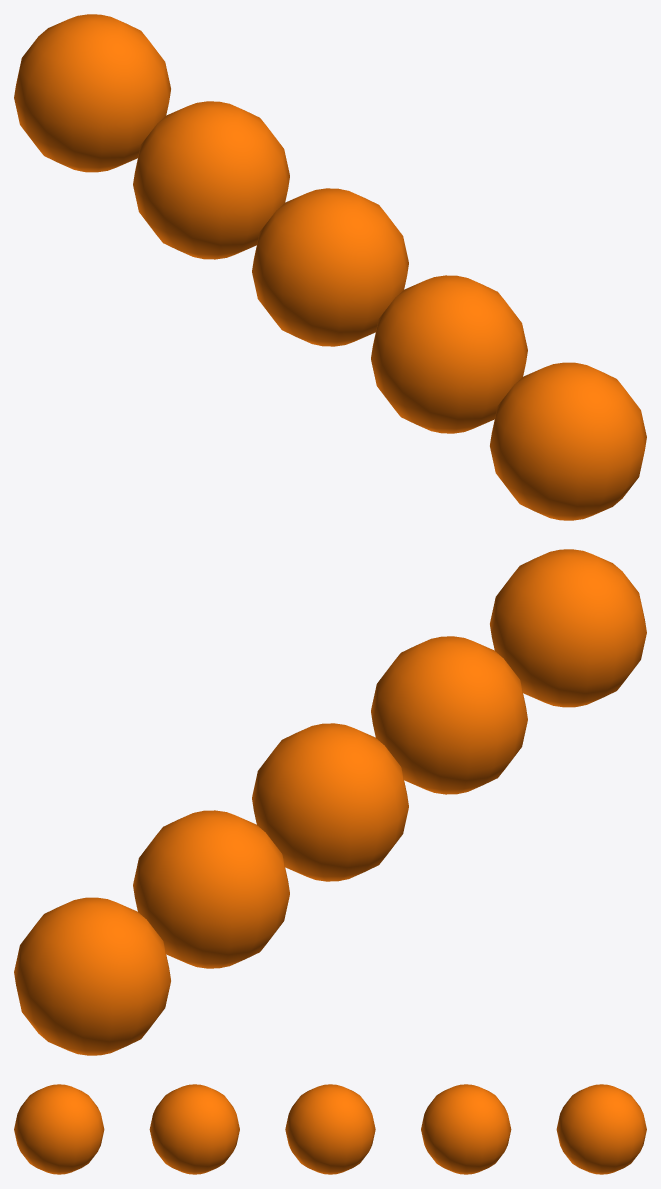
Rendered from spheres2.glb.
3 views of the same model, one above another, from view 1: azimuth 30°, elevation 25°; view 2: azimuth 150°, elevation 25°; view 3: azimuth 270°, elevation 25° (orthographic). The views are drawn at different scales.
Parts seen in each view (by area): view 1: Sphere.003, Sphere, Sphere.001, Sphere.004, Sphere.002; view 2: Sphere.004, Sphere, Sphere.002, Sphere.003, Sphere.001; view 3: Sphere, Sphere.003, Sphere.004, Sphere.001, Sphere.002.
Boxes of the visible parts, x1,y1,x2,y2 form: Sphere.003: (490,362,646,520); Sphere: (252,188,408,346); Sphere.001: (133,101,289,259); Sphere.004: (14,14,170,172); Sphere.002: (371,275,527,433); Sphere.004: (14,897,170,1055); Sphere: (252,723,408,881); Sphere.002: (371,636,527,794); Sphere.003: (490,549,646,707); Sphere.001: (133,810,289,968); Sphere: (285,1084,375,1174); Sphere.003: (14,1084,104,1174); Sphere.004: (556,1084,646,1174); Sphere.001: (421,1084,511,1174); Sphere.002: (149,1084,239,1174).
Size of the model in its own units: 2 by 2 by 14.
